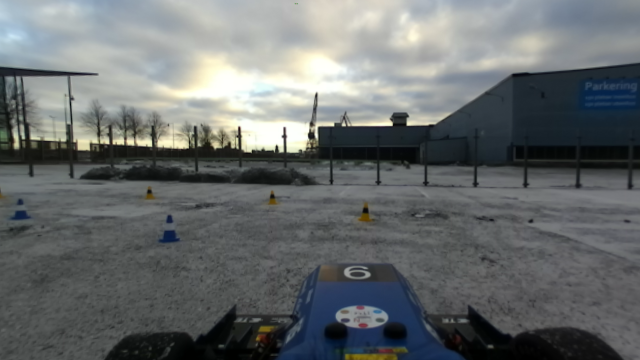blue: (156, 211, 181, 245), (12, 198, 31, 223)
yellow: (357, 203, 373, 225)
